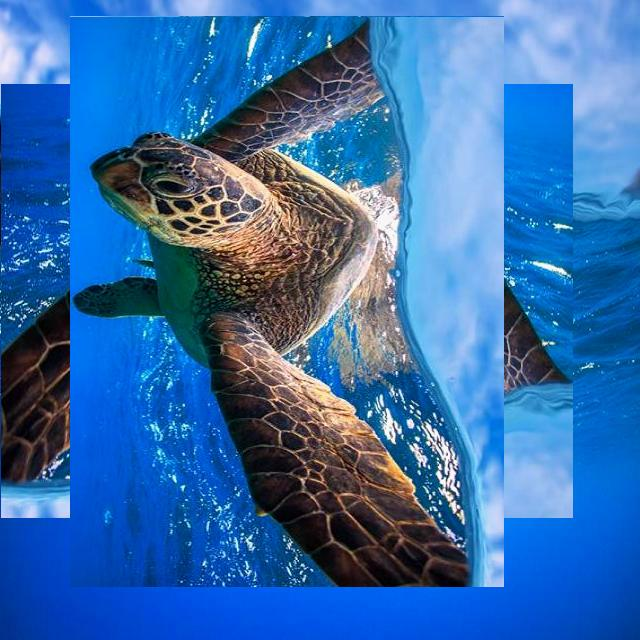Sea turtle: (36, 49, 539, 553)
